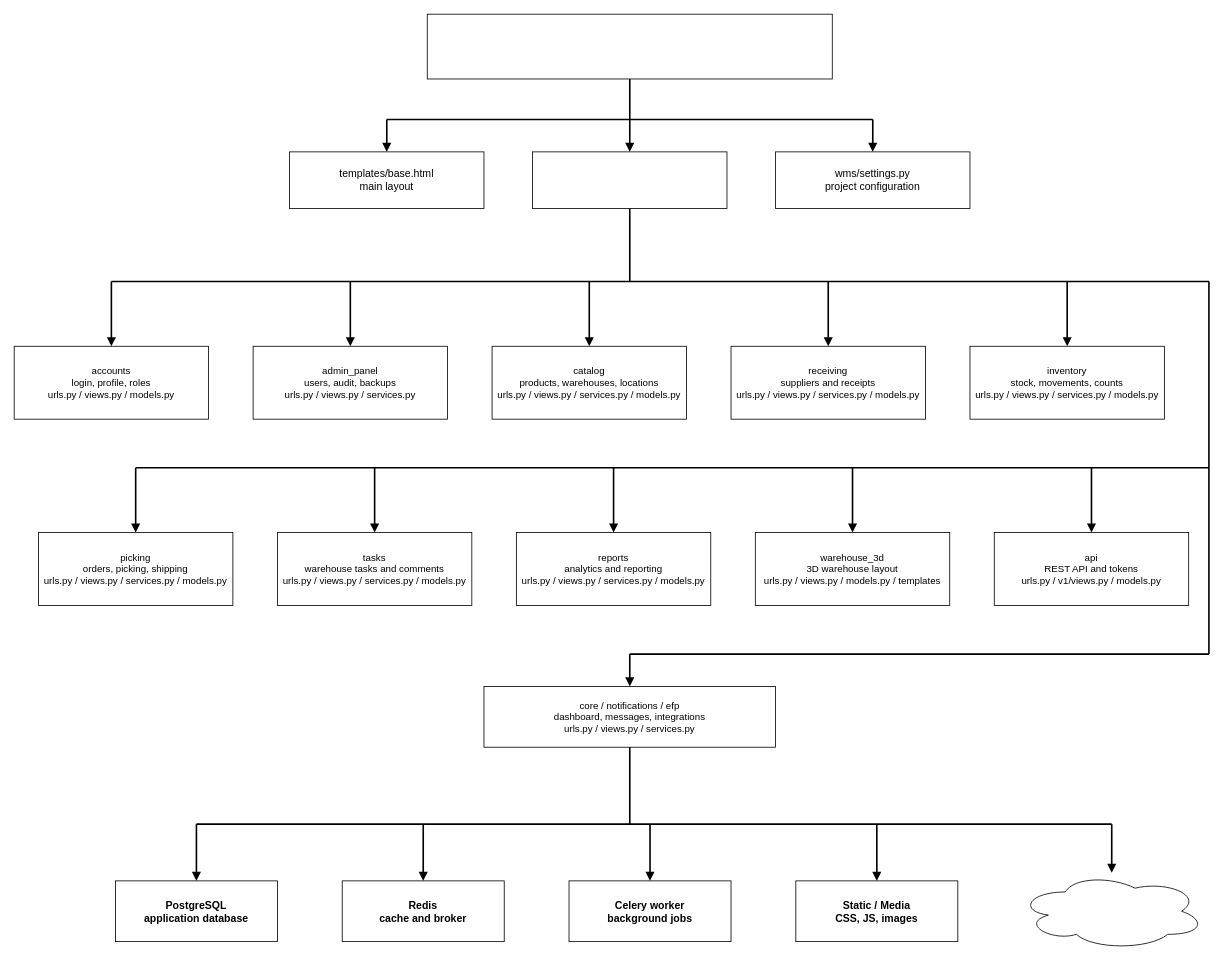
Image size: 1225x964. Some labels were removed from this diagram. The shapes that lost their labels are listed below. From the top down, each one's centre as x and y in pixels, then its label:
point 629,46: WMS Web Application Auto Parts Warehouse Management
point 629,180: wms/urls.py root routing
point 1111,911: External EFP Service auto parts data
